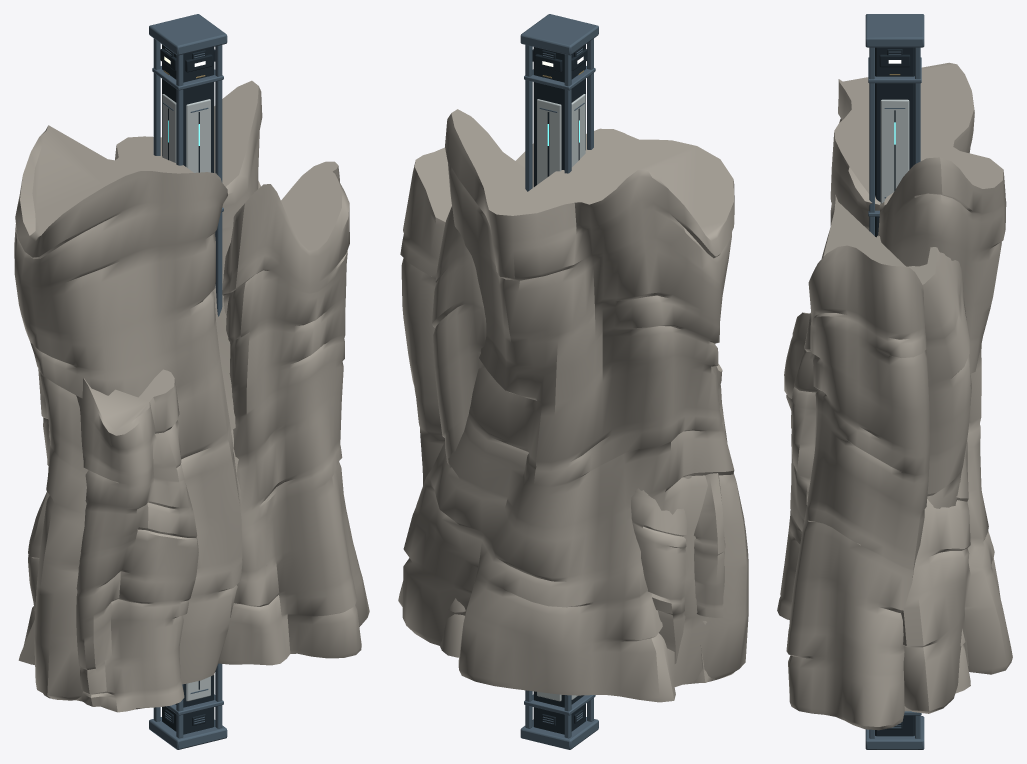
Rendered from kit-v1.glb.
3 views of the same model, side by side, from view 1: azimuth 30°, elevation 25°; view 2: azimuth 150°, elevation 25°; view 3: azimuth 270°, elevation 25° (orthographic).
Parts seen in each view (by area): view 1: canyon-cliff_rock, beacon-tower_alloy, beacon-tower_graphite, beacon-tower_ceramic; view 2: canyon-cliff_rock, beacon-tower_alloy, beacon-tower_graphite, beacon-tower_ceramic; view 3: canyon-cliff_rock, beacon-tower_alloy, beacon-tower_graphite, beacon-tower_ceramic.
Part boxes in pixels (left/top/right/bottom): canyon-cliff_rock: left=14, top=80, right=369, bottom=712; beacon-tower_alloy: left=149, top=14, right=227, bottom=749; beacon-tower_graphite: left=160, top=44, right=215, bottom=734; beacon-tower_ceramic: left=162, top=94, right=210, bottom=701; canyon-cliff_rock: left=398, top=109, right=748, bottom=702; beacon-tower_alloy: left=520, top=14, right=598, bottom=749; beacon-tower_graphite: left=532, top=44, right=587, bottom=734; beacon-tower_ceramic: left=537, top=94, right=585, bottom=701; canyon-cliff_rock: left=777, top=62, right=1012, bottom=730; beacon-tower_alloy: left=865, top=14, right=924, bottom=749; beacon-tower_graphite: left=875, top=47, right=914, bottom=736; beacon-tower_ceramic: left=880, top=99, right=909, bottom=203.
Size of the model in its own units: 20 by 40 by 12.
